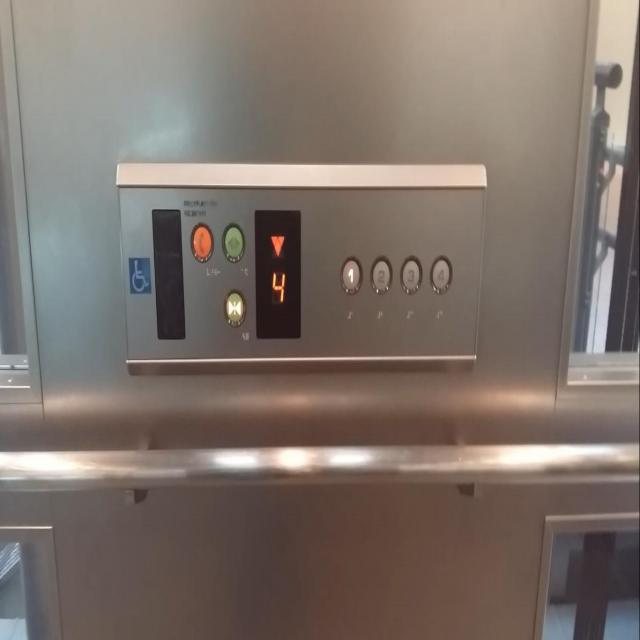1: (338, 254, 364, 297)
2: (368, 252, 392, 296)
3: (398, 251, 423, 295)
4: (428, 252, 454, 296)
CH: (126, 253, 152, 302)
call: (188, 219, 214, 264)
close: (222, 288, 247, 330)
led: (252, 206, 302, 341), (150, 204, 187, 344)
open: (221, 218, 246, 264)
